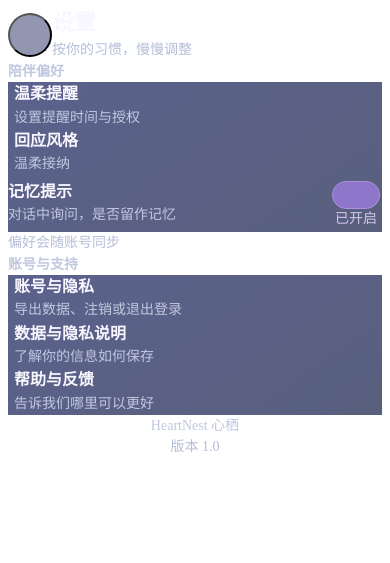
Scenario: settings preferences and recovery › restores the switch after failure and retries the intended value
Click the switch with test id "memory-prompt-toggle": [356, 204] box top-left (330, 176), bottom-right (382, 232)
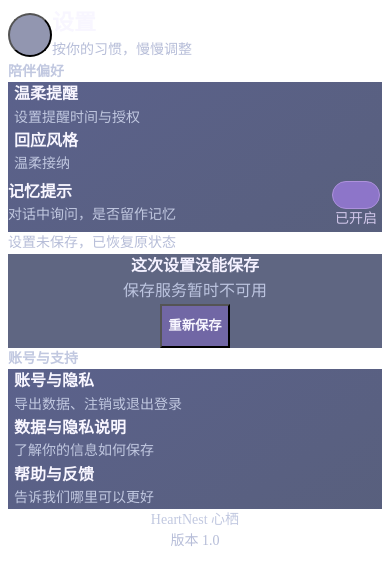
Expected: the text "设置未保存，已恢复原状态" is shown, top-left (8, 235), bottom-right (176, 250)
Click the button with class "async-state__action": [195, 326] box top-left (160, 304), bottom-right (230, 348)
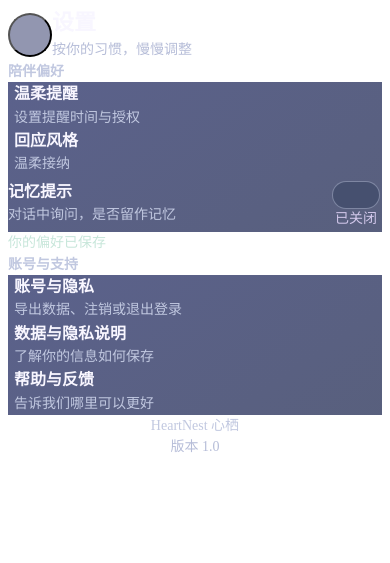
Expected: the text "这次设置没能保存" is gone
